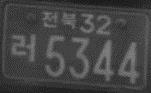2: (96, 14, 111, 36)
3: (68, 35, 90, 79), (79, 11, 95, 34)
4: (116, 40, 140, 85), (91, 39, 114, 83)
5: (42, 33, 65, 80)
러: (9, 32, 36, 64)
전북_O: (41, 9, 77, 30)
